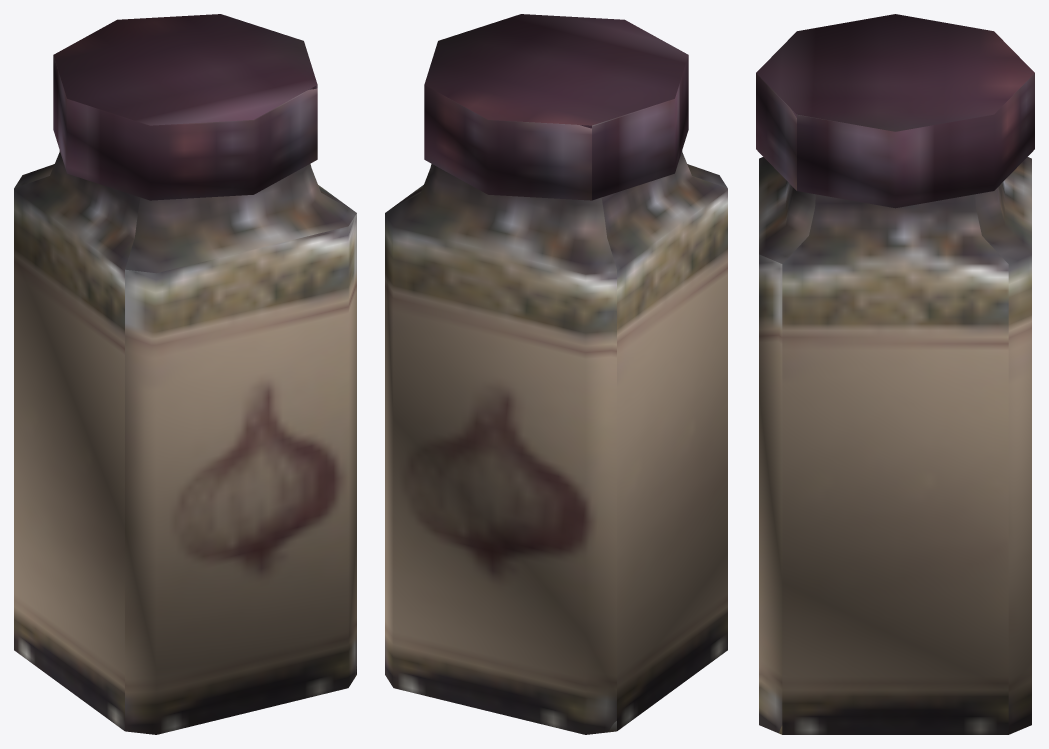
Rendered from onion_powder.FBX.
3 renders of one model, left to right at view 1: azimuth 30°, elevation 25°; view 2: azimuth 150°, elevation 25°; view 3: azimuth 270°, elevation 25°, orthographic.
Parts seen in each view (by area): view 1: onion_powder; view 2: onion_powder; view 3: onion_powder.
Part boxes in pixels (x1=…): onion_powder: x1=14, y1=14, x2=356, y2=734; onion_powder: x1=385, y1=14, x2=727, y2=734; onion_powder: x1=756, y1=14, x2=1034, y2=734.
Size of the model in its own units: 17.35 by 41.48 by 17.35.
